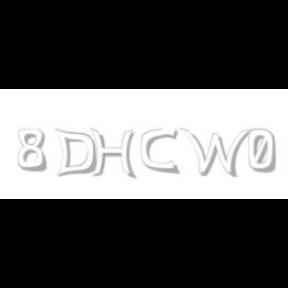0: (248, 128, 280, 174)
8: (17, 128, 46, 172)
C: (142, 128, 179, 174)
D: (54, 128, 97, 178)
H: (90, 128, 136, 180)
W: (179, 128, 251, 178)
